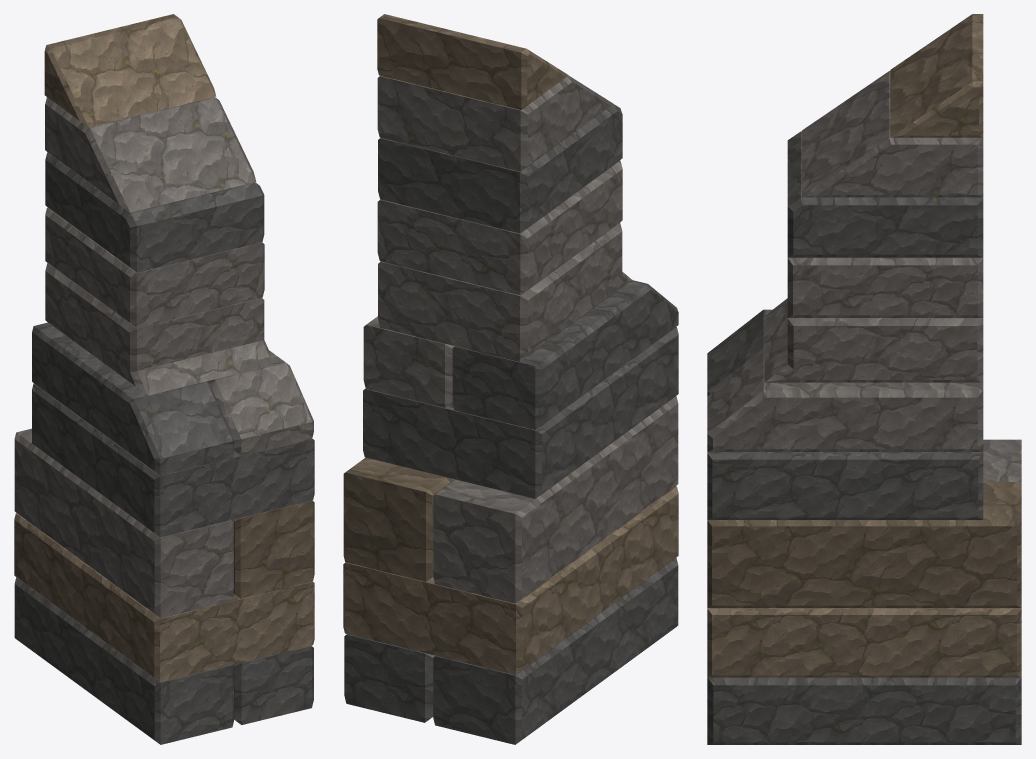
Rendered from buttress__cut_stone.glb.
3 views of the same model, side by side, from view 1: azimuth 30°, elevation 25°; view 2: azimuth 150°, elevation 25°; view 3: azimuth 270°, elevation 25° (orthographic). The views are drawn at different scales.
Parts seen in each view (by area): view 1: model; view 2: model; view 3: model.
Part boxes in pixels (x1=…): model: x1=14, y1=14, x2=314, y2=744; model: x1=343, y1=14, x2=678, y2=744; model: x1=707, y1=14, x2=1021, y2=744.
Bounding box in the file's own units: 0.788 × 2.83 × 1.23.
Materials: 4 (4 with a texture image).
